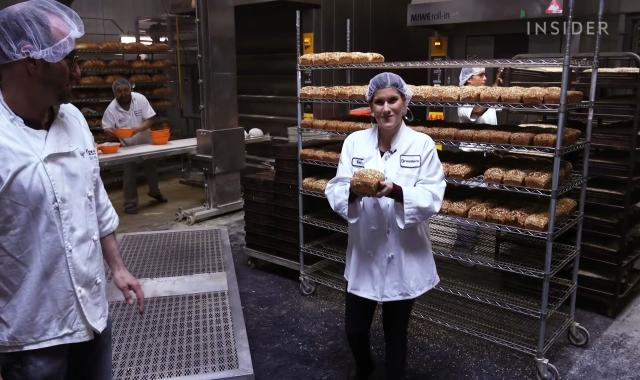hairnet: (364, 71, 414, 110), (458, 66, 487, 86), (109, 75, 135, 95)
